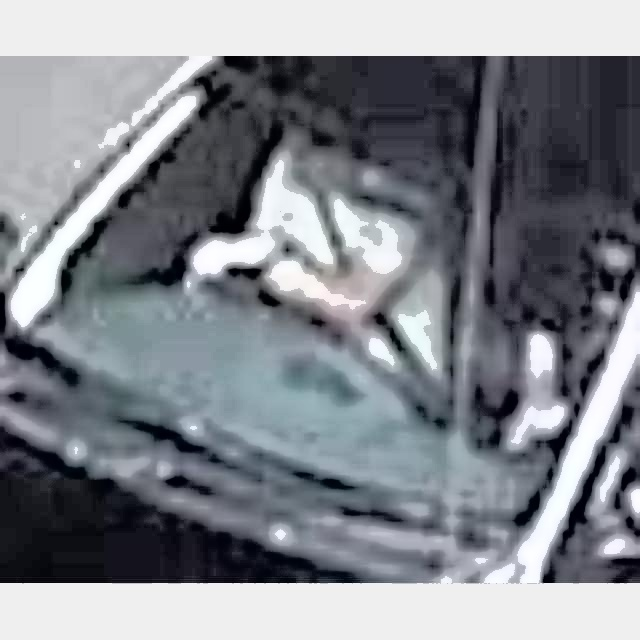pakai: (224, 129, 468, 412)
